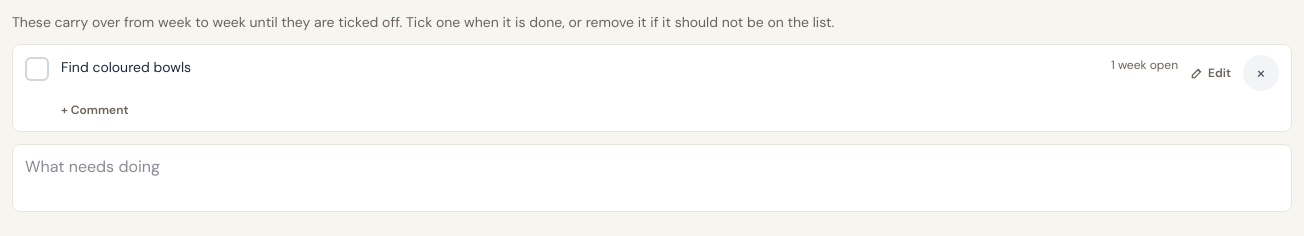
Test: changing what an action says › opens from its words, and Escape leaves it as it was
Click the button "Find coloured bowls" at (126, 67), box [61,57,1099,77]
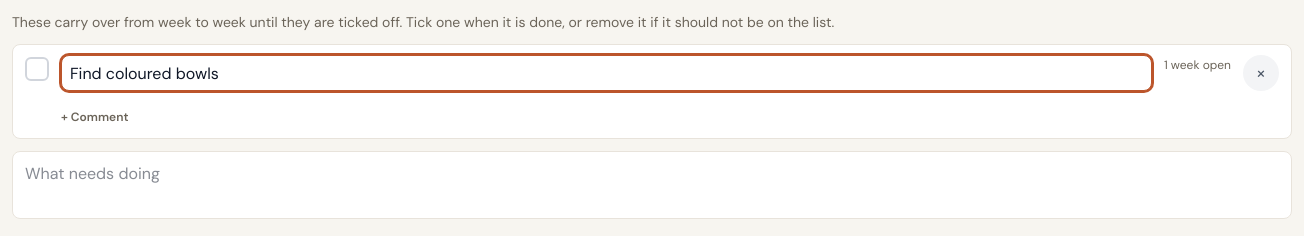
Replace the text in the text box named "What needs doing" with "something else" at (606, 73), box [61,55,1152,91]
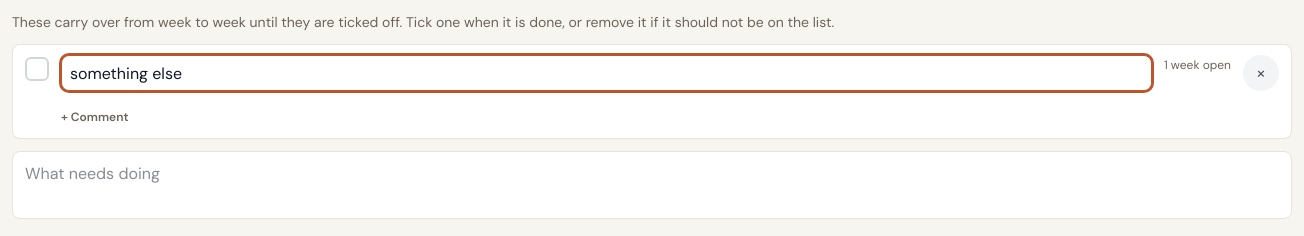
Press Escape in the text box named "What needs doing", box [61,55,1152,91]
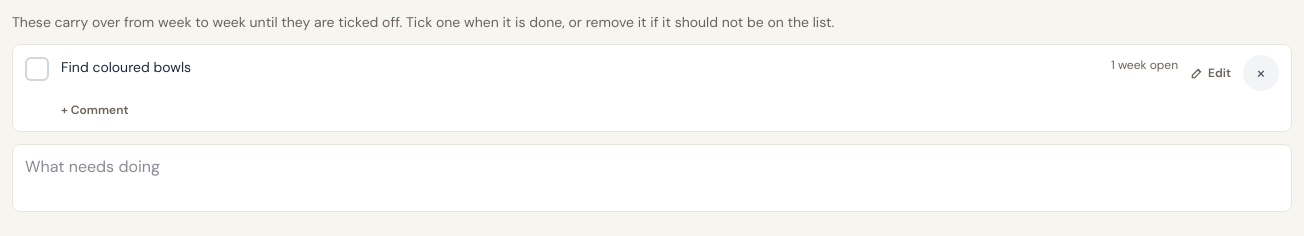
expect the button "Find coloured bowls" is shown: met, box [61,57,1099,77]
